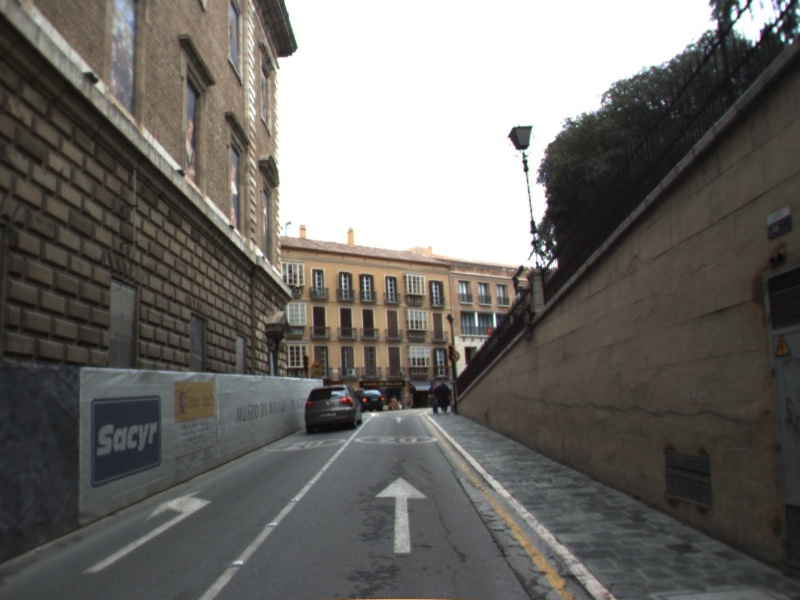LEFT: (80, 487, 213, 576)
STRAIGHT: (372, 474, 431, 556), (390, 415, 408, 424)
